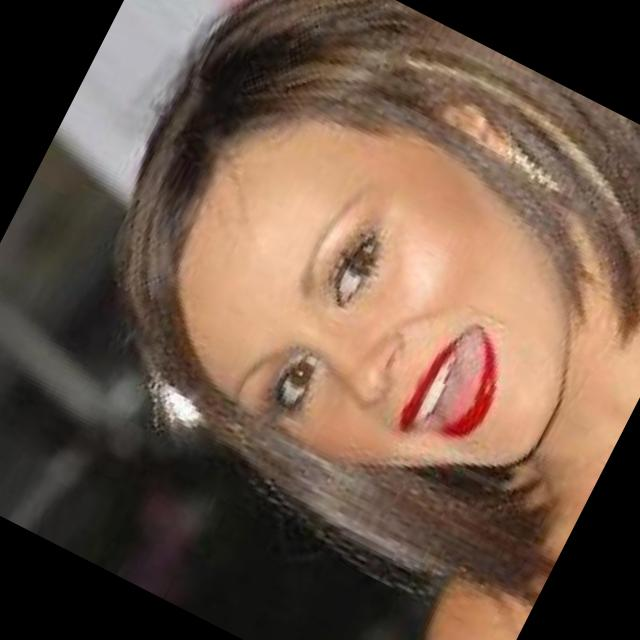bareface: (61, 0, 640, 547)
